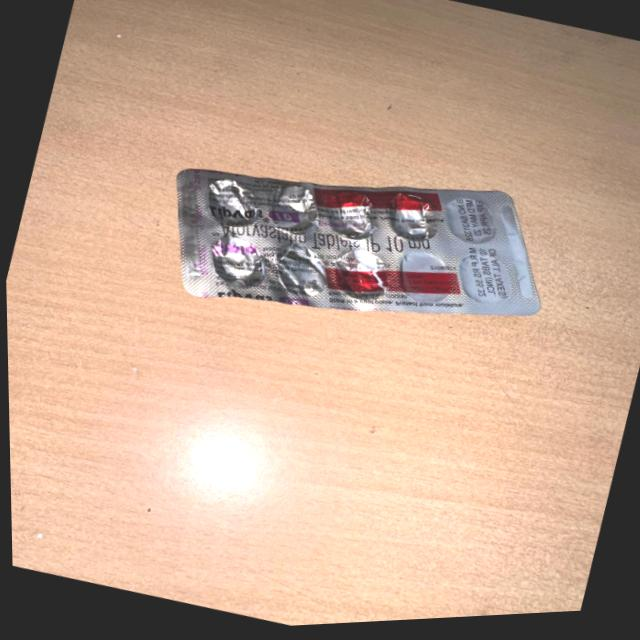medicine: (153, 156, 577, 338)
